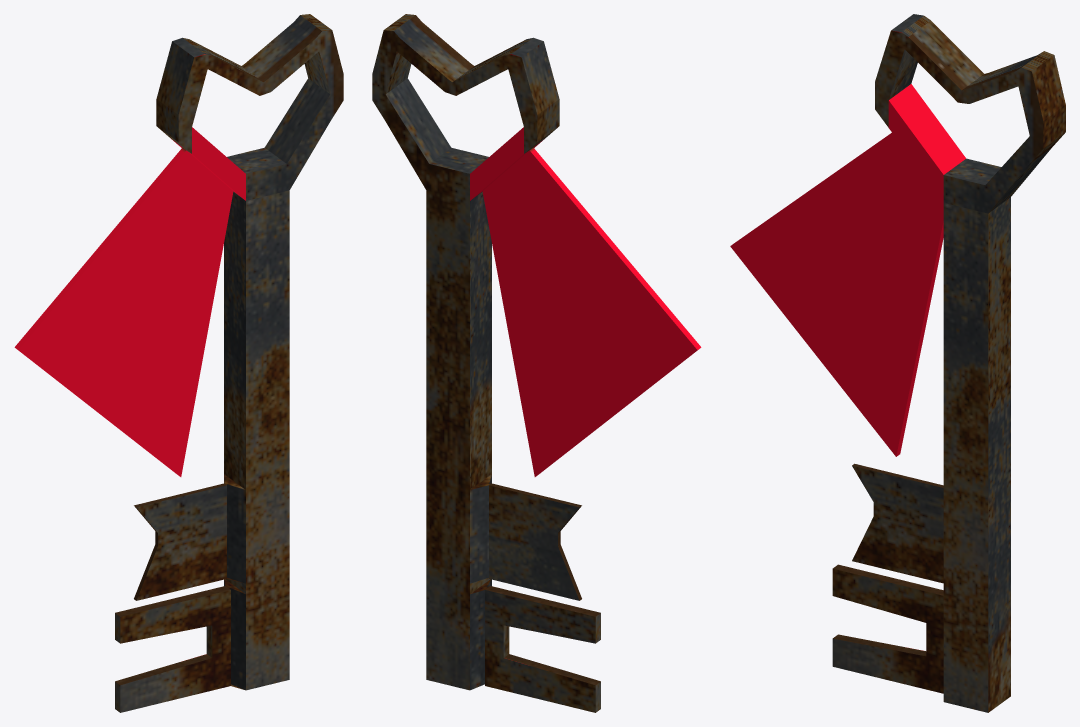
The model's file is key00.fbx.
3 views of the same model, side by side, from view 1: azimuth 30°, elevation 25°; view 2: azimuth 150°, elevation 25°; view 3: azimuth 330°, elevation 25° (orthographic). The views are drawn at different scales.
Visible parts, largest first — view 1: Cube; view 2: Cube; view 3: Cube.
Part boxes in pixels (<box>): Cube: <box>14,14,343,712</box>; Cube: <box>372,14,701,712</box>; Cube: <box>730,14,1065,712</box>.
Bounding box in the file's own units: 13.76 × 26.91 × 1.67.
1 material, 1 textured.
